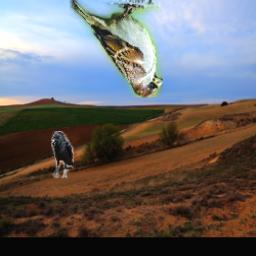Crow: (51, 131, 74, 178)
Sparrow: (71, 1, 164, 98)
